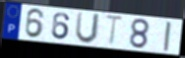6: (24, 7, 46, 40), (52, 11, 71, 40)
8: (128, 18, 151, 50)
I: (162, 21, 173, 53)
T: (104, 14, 126, 48)
U: (73, 11, 102, 46)
